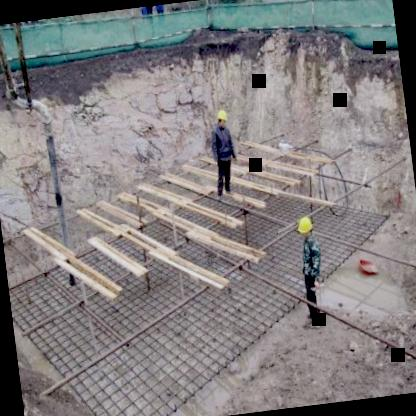helmet: (293, 212, 317, 242), (214, 106, 232, 130)
